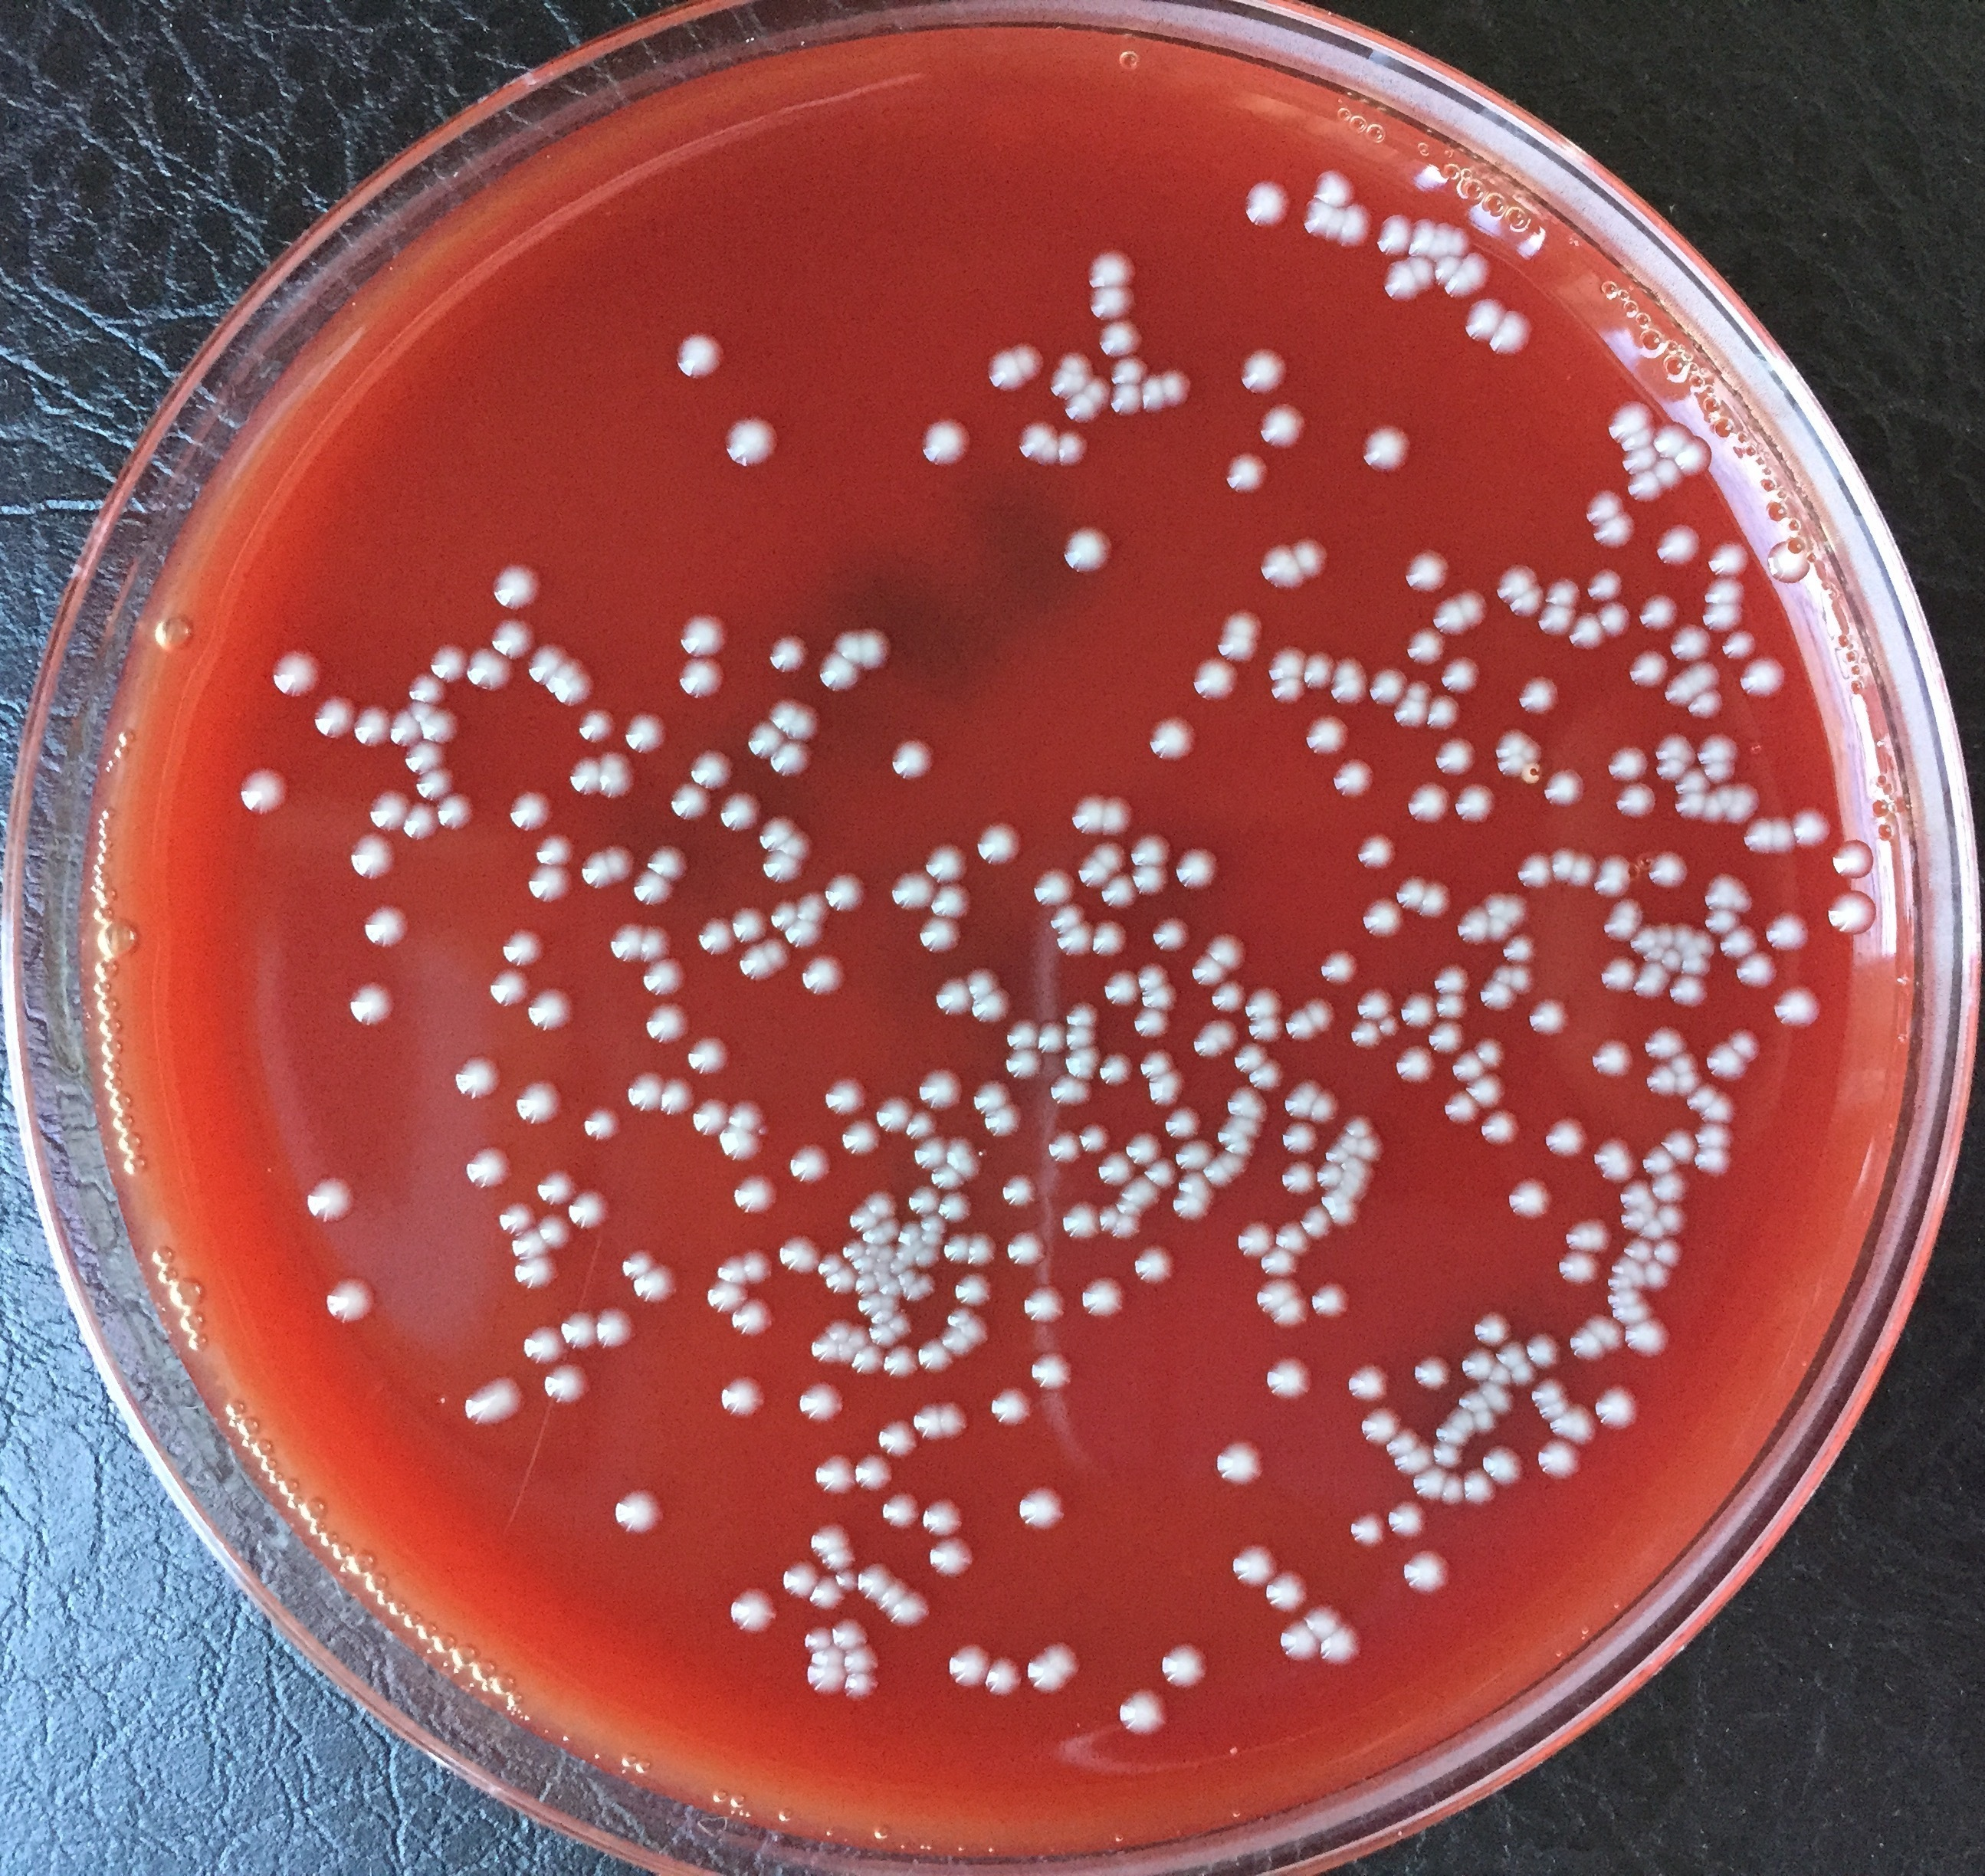sp13: (1555, 1248, 1639, 1310), (1692, 622, 1763, 689), (1624, 649, 1696, 712), (457, 1375, 532, 1432), (668, 326, 733, 391), (717, 414, 788, 474), (1592, 1135, 1652, 1202), (1121, 1127, 1181, 1192), (1595, 873, 1647, 943), (862, 1190, 931, 1241), (1022, 1636, 1082, 1694), (301, 1169, 358, 1231), (911, 1132, 973, 1188), (1058, 522, 1121, 577), (1238, 342, 1296, 398), (347, 829, 405, 885), (675, 610, 732, 668), (1156, 1638, 1213, 1694), (1359, 420, 1414, 478), (1114, 1686, 1172, 1740), (610, 1486, 670, 1539), (268, 645, 328, 698), (1186, 651, 1243, 705), (1825, 887, 1881, 942), (1486, 302, 1539, 360), (1398, 1548, 1456, 1601), (1142, 712, 1202, 763), (1211, 1439, 1271, 1490), (682, 744, 742, 795), (316, 1278, 377, 1328), (236, 771, 300, 818), (1689, 922, 1766, 961), (1440, 252, 1495, 307), (1590, 1384, 1648, 1435), (509, 1077, 568, 1128), (464, 647, 522, 698), (1084, 245, 1146, 293), (1770, 979, 1825, 1031), (918, 418, 975, 469), (973, 820, 1030, 871), (1763, 538, 1816, 591), (728, 1583, 781, 1636), (451, 1051, 504, 1104), (1257, 400, 1308, 455), (1761, 904, 1816, 956), (1502, 1172, 1558, 1222), (1262, 1354, 1319, 1403), (617, 709, 673, 758), (1186, 1016, 1245, 1063), (1243, 175, 1292, 229), (1585, 1035, 1639, 1084), (677, 654, 732, 703), (684, 1033, 740, 1081), (358, 904, 414, 952), (488, 561, 545, 608), (1456, 293, 1507, 344), (1652, 520, 1703, 571), (346, 979, 397, 1030), (1015, 1485, 1068, 1534), (917, 1063, 966, 1116), (499, 924, 552, 973), (1220, 450, 1275, 497), (1171, 845, 1225, 892), (365, 786, 413, 841), (1075, 1277, 1132, 1322), (767, 695, 825, 739), (1738, 651, 1788, 702), (1229, 1539, 1278, 1590), (1357, 894, 1410, 942), (1026, 1349, 1079, 1396), (924, 1534, 977, 1582), (945, 1641, 993, 1694), (464, 1143, 517, 1190), (522, 986, 576, 1031), (883, 735, 938, 781), (728, 1174, 784, 1218), (307, 693, 356, 742), (1541, 1114, 1592, 1162), (502, 786, 554, 834), (867, 1571, 918, 1619), (543, 1365, 596, 1411), (594, 749, 640, 802), (716, 790, 769, 836), (920, 843, 975, 887), (1557, 1215, 1615, 1255), (631, 1264, 680, 1312), (904, 1183, 952, 1232), (525, 640, 575, 688), (1017, 418, 1063, 469), (985, 1384, 1037, 1430), (591, 1303, 636, 1354), (487, 964, 538, 1010), (666, 779, 717, 825), (765, 733, 816, 779), (1451, 783, 1504, 827), (564, 1188, 617, 1232), (716, 1123, 769, 1167), (640, 1000, 693, 1044), (813, 651, 866, 695), (1257, 543, 1312, 585), (793, 1382, 848, 1425), (920, 1229, 977, 1269), (1045, 1072, 1102, 1113), (1498, 1331, 1560, 1368), (1403, 778, 1451, 825), (1021, 1280, 1068, 1328), (1264, 1567, 1312, 1615), (776, 1232, 823, 1280), (1789, 804, 1835, 853), (1645, 846, 1694, 892), (1301, 194, 1345, 245), (1703, 871, 1754, 915), (1382, 1500, 1433, 1545), (1345, 1361, 1396, 1405), (1826, 839, 1879, 882), (1537, 767, 1590, 809), (1479, 1444, 1532, 1486), (885, 867, 938, 910), (1086, 913, 1132, 961), (1393, 1042, 1439, 1090), (1319, 1619, 1364, 1666), (786, 1139, 834, 1185), (349, 705, 397, 751), (1317, 1187, 1363, 1234), (1310, 168, 1359, 212), (984, 346, 1028, 395), (1604, 397, 1654, 441), (1303, 712, 1352, 756), (719, 1372, 769, 1416), (488, 619, 538, 663), (1333, 199, 1375, 250), (1400, 626, 1451, 668), (1539, 1437, 1590, 1479), (947, 1132, 989, 1183), (524, 860, 575, 903), (1222, 1083, 1275, 1123), (1481, 1372, 1521, 1425), (1439, 651, 1484, 696), (1331, 755, 1377, 800), (730, 1294, 776, 1340), (931, 973, 977, 1019), (1516, 674, 1564, 718), (1733, 945, 1781, 989), (1333, 1107, 1377, 1155), (578, 1104, 626, 1148), (1343, 1509, 1393, 1552), (522, 1324, 571, 1366), (822, 1074, 871, 1116), (799, 952, 848, 994), (400, 741, 457, 778), (857, 629, 899, 679), (531, 829, 580, 871), (1095, 316, 1146, 356), (1030, 866, 1081, 906), (1624, 1319, 1675, 1359), (820, 873, 871, 913), (629, 866, 680, 906), (756, 850, 811, 887), (1111, 1176, 1165, 1213), (1289, 534, 1333, 580), (1305, 1280, 1350, 1324), (1297, 1202, 1342, 1248), (573, 703, 617, 749), (643, 841, 689, 885), (1632, 591, 1680, 633), (1474, 977, 1521, 1019), (1201, 931, 1248, 973), (1132, 1243, 1179, 1285), (1276, 1619, 1324, 1661), (636, 917, 679, 964), (1553, 1405, 1601, 1448), (1428, 598, 1477, 638), (1253, 1275, 1303, 1315), (511, 1254, 561, 1294), (628, 1068, 668, 1118), (746, 714, 786, 763), (1643, 1024, 1694, 1063), (1615, 779, 1659, 823), (1583, 1310, 1627, 1354), (873, 1093, 917, 1137), (435, 792, 480, 836), (423, 642, 467, 686), (1370, 665, 1412, 711), (1597, 954, 1643, 996), (1565, 1324, 1611, 1366), (1407, 1460, 1449, 1506), (688, 1095, 733, 1137), (1093, 1146, 1139, 1188), (400, 799, 442, 845), (1703, 536, 1751, 577), (1403, 550, 1451, 591), (645, 956, 693, 996), (1333, 652, 1368, 707), (917, 915, 968, 952), (1567, 610, 1610, 654), (1527, 993, 1571, 1035), (1357, 1403, 1401, 1446), (1005, 1227, 1049, 1269), (980, 1097, 1024, 1139), (695, 917, 739, 959), (1380, 257, 1421, 303), (1594, 510, 1639, 550), (1493, 562, 1539, 603), (1433, 733, 1479, 774), (1352, 832, 1398, 873), (1699, 1038, 1745, 1079), (1234, 1220, 1280, 1261), (876, 1419, 922, 1460), (851, 1449, 897, 1490), (888, 1590, 934, 1631), (1142, 1068, 1188, 1109), (568, 755, 608, 800), (1721, 786, 1766, 827), (1581, 488, 1629, 527), (1128, 1003, 1176, 1042), (1468, 1310, 1516, 1349), (658, 1072, 696, 1120), (603, 919, 642, 966), (703, 1278, 755, 1314), (1169, 1137, 1220, 1172), (1652, 416, 1694, 458), (1098, 964, 1141, 1007), (1675, 436, 1715, 480), (1514, 850, 1555, 894), (1151, 915, 1195, 956), (1280, 1079, 1324, 1120), (1410, 1354, 1454, 1395), (559, 1308, 599, 1352), (1059, 1199, 1100, 1243), (1097, 1049, 1141, 1090), (1098, 792, 1137, 838), (984, 1654, 1022, 1700), (405, 670, 451, 709), (769, 633, 814, 672), (1086, 286, 1139, 319), (1104, 379, 1141, 427), (1668, 972, 1715, 1009), (1426, 961, 1474, 998), (1638, 1199, 1685, 1236), (922, 1499, 970, 1536), (927, 883, 975, 920), (1377, 210, 1412, 259), (1045, 368, 1095, 404), (1007, 339, 1049, 379), (1421, 693, 1463, 733), (1398, 989, 1440, 1030), (1098, 873, 1141, 913), (1128, 859, 1171, 899), (1280, 1005, 1322, 1046), (814, 1453, 857, 1493), (777, 1559, 820, 1599), (970, 1074, 1012, 1114), (735, 943, 776, 986), (1052, 428, 1091, 473), (1535, 599, 1580, 638), (1669, 621, 1714, 659), (1442, 1088, 1486, 1127), (1275, 1215, 1313, 1259), (1604, 744, 1650, 781), (1423, 1021, 1468, 1058), (970, 989, 1015, 1026), (725, 904, 770, 942), (1218, 608, 1266, 644), (1463, 1076, 1511, 1111), (532, 1169, 580, 1204), (756, 815, 804, 850), (1458, 1344, 1498, 1384), (1303, 1601, 1343, 1641), (841, 1668, 881, 1709), (851, 1560, 892, 1601), (793, 887, 834, 927), (767, 897, 807, 938), (830, 628, 871, 668), (1594, 598, 1632, 640), (1509, 580, 1551, 619), (1632, 961, 1671, 1003), (1056, 919, 1098, 957), (1481, 1107, 1520, 1150), (1268, 1291, 1310, 1329), (876, 1492, 918, 1530), (839, 1116, 881, 1155), (936, 1329, 978, 1368), (1456, 904, 1493, 949), (1317, 947, 1361, 984), (1692, 1143, 1736, 1180), (1278, 1120, 1322, 1157), (1045, 1127, 1089, 1164), (1063, 1044, 1107, 1081), (1126, 832, 1172, 867), (1698, 599, 1745, 633), (1215, 629, 1262, 663), (546, 674, 603, 702), (1160, 367, 1201, 406), (1268, 645, 1308, 684), (829, 1613, 869, 1652), (383, 711, 423, 749), (1245, 1009, 1287, 1046), (1278, 1158, 1320, 1195), (952, 1273, 994, 1310), (809, 1576, 851, 1613), (1001, 1016, 1044, 1053), (783, 917, 832, 949), (758, 934, 800, 972), (1174, 1194, 1216, 1231), (1068, 792, 1104, 836), (1186, 954, 1230, 989), (1259, 1243, 1303, 1278), (911, 1400, 947, 1444), (996, 1172, 1040, 1208), (966, 1227, 1000, 1273), (1003, 1049, 1049, 1083), (726, 1095, 765, 1134), (936, 1188, 977, 1225), (1162, 1102, 1202, 1139), (1627, 471, 1669, 506), (1766, 815, 1802, 857), (1647, 1171, 1689, 1206), (1461, 1465, 1497, 1507), (936, 1398, 971, 1441), (964, 963, 1007, 998), (580, 850, 615, 892), (1303, 649, 1336, 693), (1696, 732, 1740, 765), (1500, 885, 1534, 929), (414, 767, 458, 800), (418, 709, 462, 742), (1105, 353, 1151, 384), (1581, 569, 1627, 601), (816, 1548, 862, 1580), (1701, 577, 1752, 605), (1454, 585, 1493, 622), (1417, 883, 1454, 922), (1134, 961, 1172, 998), (1208, 979, 1246, 1016), (1232, 1040, 1271, 1077), (1661, 1125, 1698, 1164), (538, 1213, 575, 1252), (1629, 922, 1664, 963), (1352, 986, 1393, 1021), (1141, 982, 1181, 1017), (1246, 1056, 1287, 1091), (1451, 1051, 1491, 1086), (1645, 1063, 1685, 1098), (1698, 1090, 1738, 1125), (1740, 816, 1773, 859), (1074, 857, 1116, 890), (1045, 901, 1088, 934), (809, 1522, 851, 1555), (617, 1248, 659, 1282), (511, 1227, 554, 1261), (1655, 732, 1698, 765), (1343, 1151, 1386, 1185), (1500, 933, 1544, 964), (1135, 1047, 1179, 1079), (1673, 786, 1703, 832), (1303, 994, 1340, 1031), (917, 1336, 954, 1373), (1407, 256, 1442, 294), (1641, 1143, 1680, 1178), (1382, 1425, 1421, 1460), (1393, 698, 1433, 732), (1088, 836, 1128, 869), (881, 1344, 922, 1377), (1622, 446, 1664, 478), (1546, 845, 1578, 887), (1699, 904, 1742, 936), (1243, 986, 1285, 1017), (1396, 1444, 1439, 1476), (742, 1245, 772, 1289), (1532, 1395, 1576, 1425), (1393, 873, 1430, 908), (1306, 1090, 1343, 1125), (1684, 1079, 1721, 1114), (1491, 721, 1528, 756), (797, 1671, 846, 1698), (1689, 688, 1728, 721), (1269, 675, 1308, 709), (1435, 991, 1474, 1024), (850, 1344, 888, 1377), (1074, 1120, 1112, 1153), (603, 843, 636, 882), (497, 1202, 538, 1234), (1063, 1019, 1104, 1051), (1052, 347, 1095, 377), (1694, 1120, 1736, 1150), (1571, 850, 1597, 897), (806, 1331, 841, 1366), (1033, 1017, 1068, 1053), (1543, 577, 1581, 608), (901, 1109, 940, 1141), (1618, 1232, 1657, 1264), (1597, 852, 1638, 882), (1439, 1470, 1468, 1511), (1347, 1017, 1384, 1049), (1470, 1035, 1507, 1067), (963, 1321, 1000, 1352), (1063, 998, 1102, 1028), (1137, 372, 1165, 413), (1647, 1261, 1675, 1301), (862, 1215, 903, 1243), (1112, 1208, 1146, 1241), (1476, 1411, 1509, 1444), (1654, 458, 1685, 494), (716, 1255, 751, 1287), (1618, 1296, 1661, 1322), (1525, 1379, 1567, 1405), (1201, 1162, 1232, 1197), (844, 1204, 881, 1234), (1211, 1155, 1250, 1183), (1063, 391, 1097, 423), (800, 1620, 834, 1652), (1454, 1379, 1488, 1411), (1447, 1403, 1481, 1435), (1726, 1028, 1761, 1058), (864, 1319, 899, 1349), (1179, 1169, 1215, 1199), (1636, 1217, 1673, 1245), (1433, 254, 1465, 286), (1654, 1238, 1685, 1269), (1507, 961, 1535, 996), (846, 1647, 881, 1675), (1518, 756, 1546, 792), (1410, 217, 1439, 252), (1437, 1418, 1472, 1446), (1701, 758, 1738, 785), (1479, 889, 1509, 920), (1484, 915, 1514, 947), (1669, 1067, 1703, 1095), (1486, 1363, 1520, 1391), (827, 1266, 855, 1299), (1433, 1442, 1470, 1467), (1668, 1047, 1699, 1076), (1236, 1113, 1268, 1141), (1618, 430, 1657, 453), (1359, 1137, 1394, 1162), (1437, 213, 1456, 257), (1652, 758, 1689, 781), (1661, 945, 1691, 973), (1095, 1202, 1123, 1232), (832, 1567, 864, 1594), (887, 1314, 918, 1340), (1682, 950, 1715, 975), (806, 1645, 844, 1666), (1701, 792, 1721, 834), (1315, 1162, 1342, 1192), (1322, 1137, 1349, 1167), (1215, 1120, 1245, 1146), (943, 1307, 977, 1329), (1410, 677, 1437, 705), (1495, 751, 1523, 778), (1668, 922, 1696, 949), (915, 1245, 941, 1273), (1680, 661, 1705, 691), (1629, 1268, 1654, 1298), (1675, 774, 1712, 793), (1618, 1210, 1650, 1231), (1340, 1181, 1366, 1206), (899, 1239, 926, 1264), (1114, 1201, 1142, 1224), (1222, 1143, 1260, 1158), (839, 1236, 864, 1261), (917, 1273, 940, 1299), (1379, 1014, 1400, 1042), (1604, 1273, 1638, 1291), (818, 1254, 843, 1277), (1454, 224, 1474, 252), (1513, 1365, 1541, 1384), (1655, 919, 1673, 949), (874, 1241, 897, 1264), (1525, 737, 1546, 762), (904, 1285, 927, 1307), (855, 1273, 876, 1296), (859, 1292, 878, 1317), (1717, 785, 1735, 809), (1610, 1261, 1643, 1273), (880, 1282, 904, 1298), (890, 1255, 911, 1273), (853, 1255, 874, 1273), (871, 1305, 892, 1322), (878, 1271, 899, 1287), (894, 1271, 917, 1285), (864, 1238, 878, 1261), (881, 1296, 901, 1308), (874, 1259, 890, 1273)
